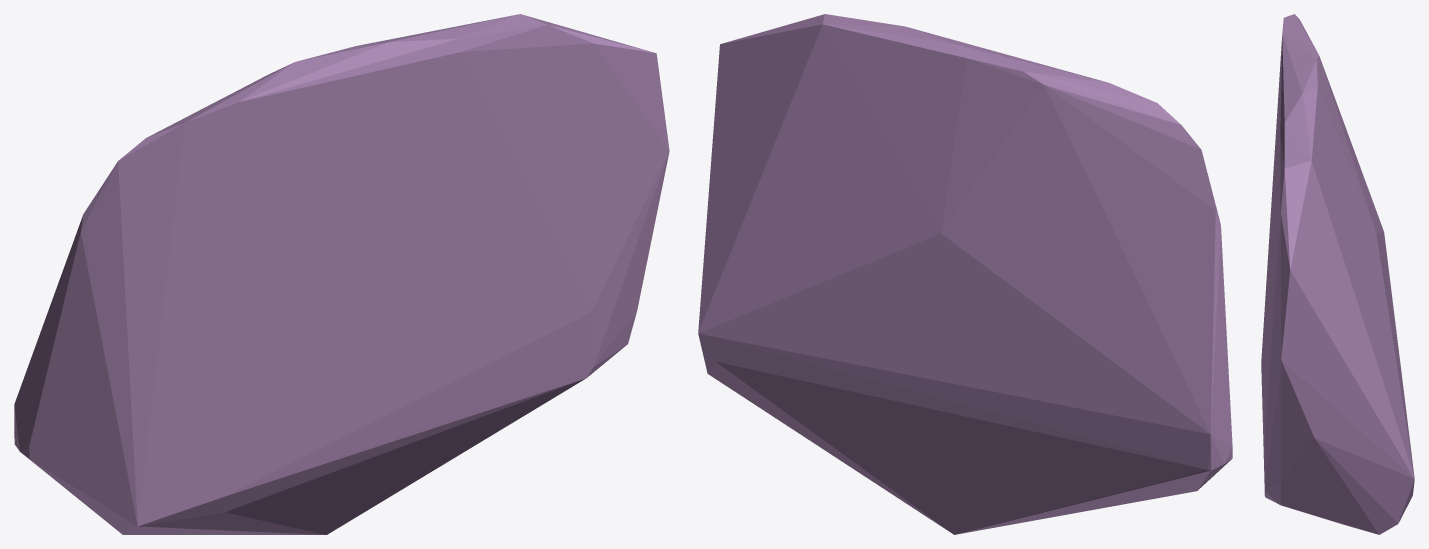
The model's file is tool_clamp_c01.glb.
The picture shows the model from 3 angles, left to right: view 1: azimuth 30°, elevation 25°; view 2: azimuth 150°, elevation 25°; view 3: azimuth 270°, elevation 25°; orthographic projection. The views are drawn at different scales.
Visible parts, largest first — view 1: geometry_0; view 2: geometry_0; view 3: geometry_0.
Boxes of the visible parts, <box> form: geometry_0: <box>14,14,669,534</box>; geometry_0: <box>698,14,1232,534</box>; geometry_0: <box>1261,14,1414,534</box>.
Size of the model in its own units: 0.4731 by 0.375 by 0.1163.
